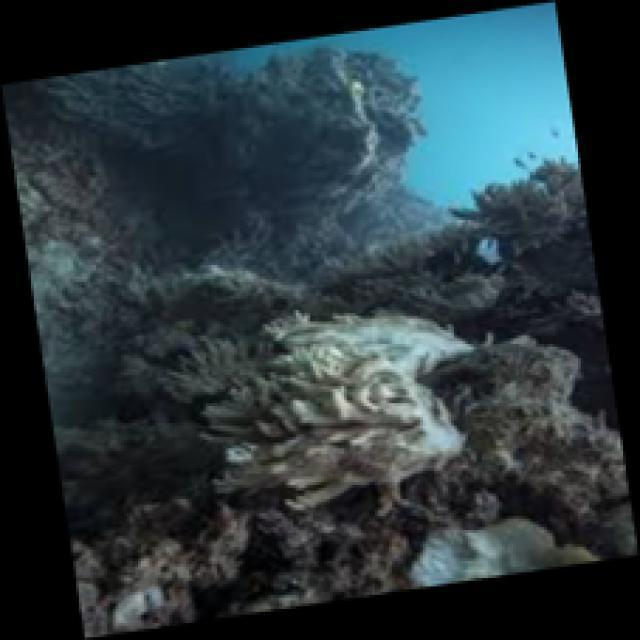Dead Coral: (470, 327, 640, 566)
